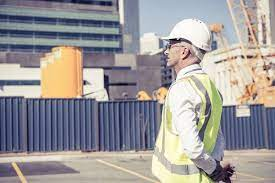casque: (142, 13, 244, 183)
